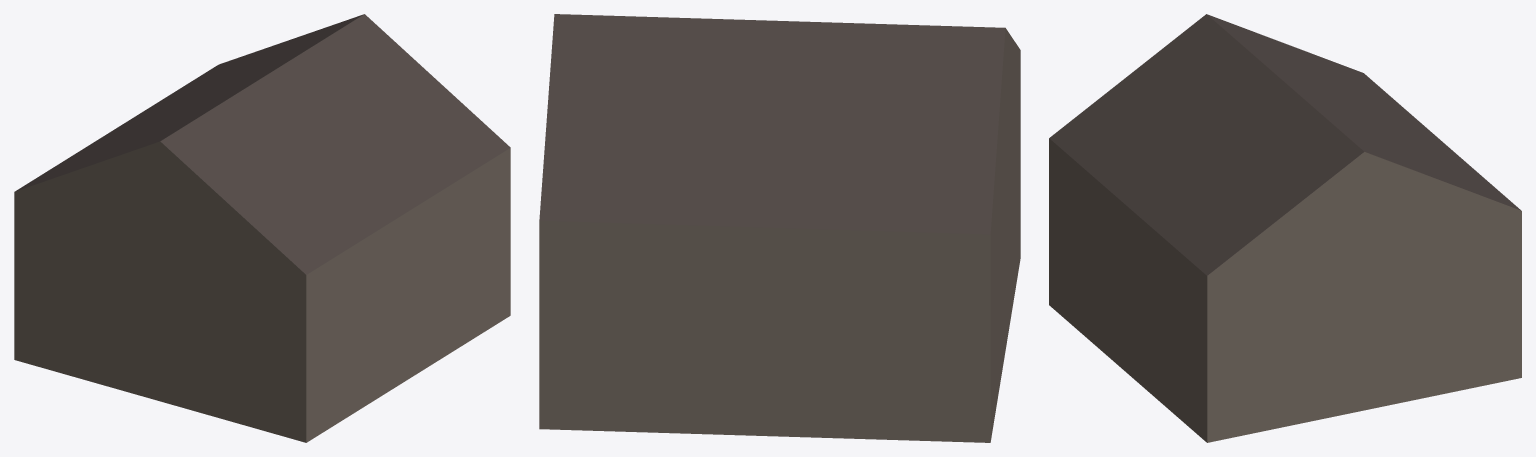
The picture shows the model from 3 angles, left to right: view 1: azimuth 30°, elevation 25°; view 2: azimuth 150°, elevation 25°; view 3: azimuth 270°, elevation 25°; orthographic projection. The views are drawn at different scales.
Parts seen in each view (by area): view 1: HP-w369317575; view 2: HP-w369317575; view 3: HP-w369317575.
Boxes of the visible parts, x1,y1,x2,y2 form: HP-w369317575: (14, 14, 510, 442); HP-w369317575: (539, 14, 1020, 442); HP-w369317575: (1049, 14, 1521, 442).
Size of the model in its own units: 15.63 by 9.29 by 15.39.
